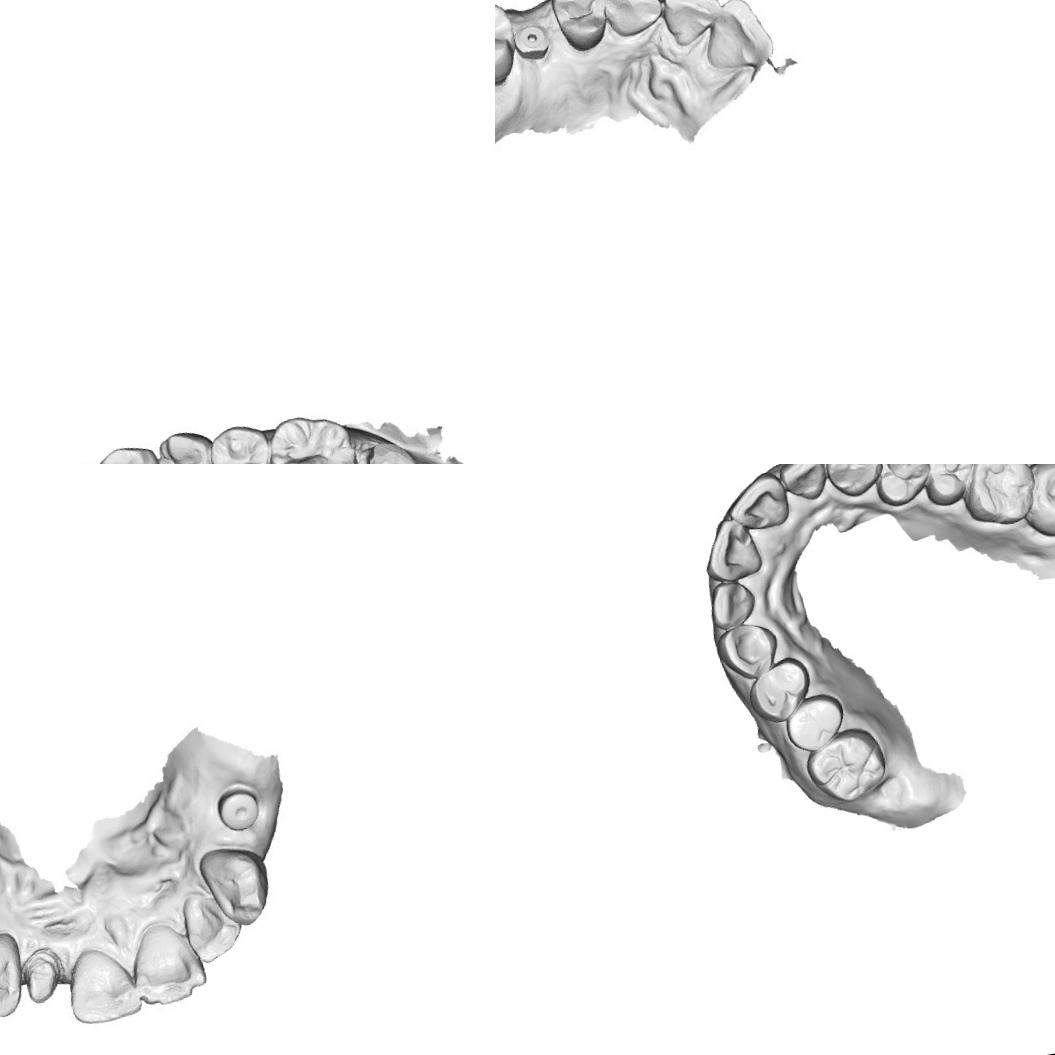canine: (196, 839, 276, 932), (712, 617, 784, 686), (0, 926, 31, 1023), (600, 0, 667, 40), (819, 464, 887, 500), (96, 437, 165, 464)
crown: (348, 421, 439, 464), (18, 943, 70, 1008)
implant: (205, 771, 273, 840), (511, 20, 552, 60)
incisor: (124, 915, 205, 1009), (60, 944, 144, 1032), (695, 0, 774, 77), (696, 511, 766, 586), (722, 468, 792, 535), (182, 887, 239, 962), (656, 0, 725, 50), (703, 576, 761, 634), (775, 464, 830, 504)
molar: (799, 722, 892, 809), (953, 464, 1042, 531), (265, 406, 359, 464), (1014, 464, 1055, 541), (495, 0, 519, 94)
premolar: (740, 652, 818, 729), (779, 688, 850, 757), (545, 0, 613, 55), (866, 464, 936, 510), (206, 419, 276, 464), (916, 464, 982, 510), (148, 425, 222, 464)
